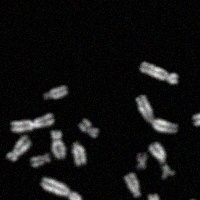chromosome: (136, 94, 177, 135), (38, 176, 83, 200), (140, 60, 178, 83), (11, 114, 54, 133), (6, 134, 29, 161), (41, 86, 69, 104), (123, 173, 143, 198), (49, 129, 65, 159), (81, 117, 99, 141), (71, 140, 86, 167), (150, 143, 165, 165), (31, 152, 51, 168), (160, 164, 175, 182), (134, 153, 145, 173), (193, 106, 200, 128), (147, 194, 162, 200), (187, 199, 200, 200)
